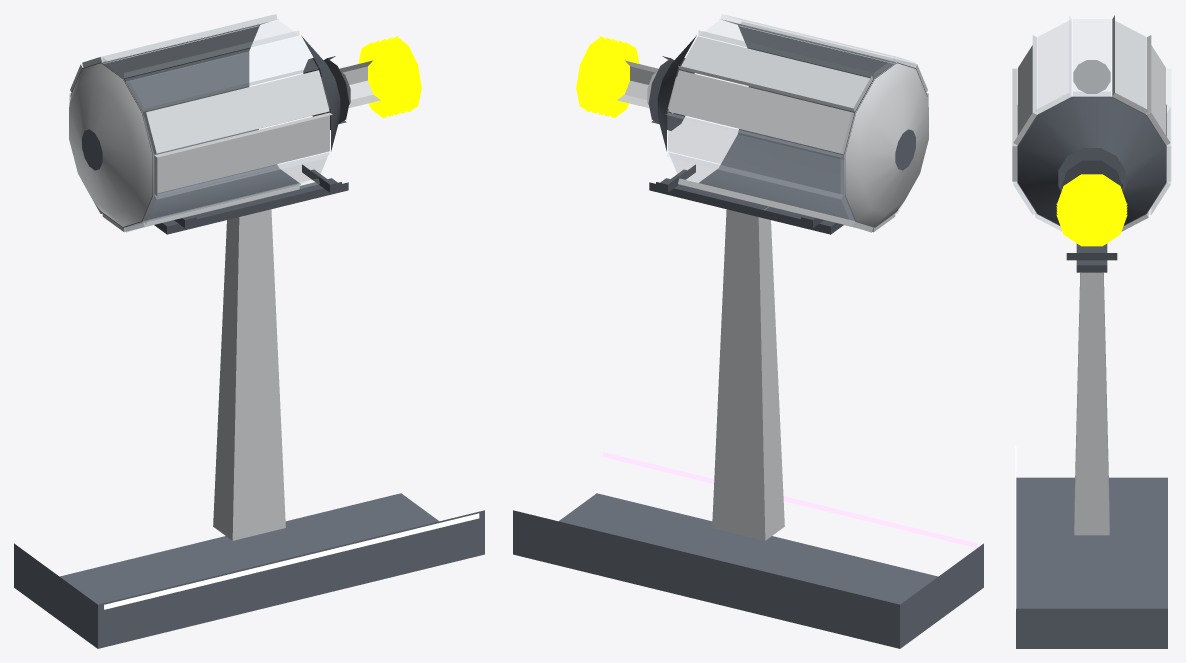
File: ext_memorial_aegis_01.glb
3 views of the same model, side by side, from view 1: azimuth 30°, elevation 25°; view 2: azimuth 150°, elevation 25°; view 3: azimuth 270°, elevation 25° (orthographic). The views are drawn at different scales.
Visible parts, largest first — view 1: Plinth, Stele, Drum_Hull_Strips, Drum_Solarium_Glass, Drum_Core, Fwd_Endcap_Dome, Fusion_Coils, Yoke, Plinth_Seam, Aft_Baffle_Bulkhead, Starport_Spine; view 2: Plinth, Stele, Drum_Hull_Strips, Drum_Solarium_Glass, Drum_Core, Fwd_Endcap_Dome, Fusion_Coils, Yoke, Plinth_Seam, Aft_Baffle_Bulkhead, Starport_Spine; view 3: Plinth, Aft_Baffle_Bulkhead, Stele, Drum_Solarium_Glass, Drum_Hull_Strips, Fusion_Coils, Drum_Core, Fwd_Endcap_Dome, Yoke, Docking_Collar, Plinth_Seam.
Part boxes in pixels (x1,y1,x2,y2): Plinth: [14, 493, 484, 648]; Stele: [213, 207, 285, 540]; Drum_Hull_Strips: [70, 14, 332, 232]; Drum_Solarium_Glass: [69, 20, 331, 232]; Drum_Core: [70, 22, 300, 227]; Fwd_Endcap_Dome: [69, 62, 153, 226]; Fusion_Coils: [358, 35, 421, 117]; Yoke: [154, 164, 348, 234]; Plinth_Seam: [104, 513, 479, 609]; Aft_Baffle_Bulkhead: [301, 35, 340, 151]; Starport_Spine: [321, 60, 380, 113]; Plinth: [513, 493, 983, 648]; Stele: [712, 207, 784, 540]; Drum_Hull_Strips: [667, 21, 928, 232]; Drum_Solarium_Glass: [666, 14, 915, 223]; Drum_Core: [699, 19, 927, 227]; Fwd_Endcap_Dome: [844, 62, 928, 226]; Fusion_Coils: [576, 35, 639, 117]; Yoke: [649, 164, 843, 234]; Plinth_Seam: [602, 452, 978, 547]; Aft_Baffle_Bulkhead: [657, 35, 696, 151]; Starport_Spine: [617, 60, 676, 113]; Plinth: [1016, 477, 1167, 648]; Aft_Baffle_Bulkhead: [1018, 96, 1165, 225]; Stele: [1074, 272, 1109, 535]; Drum_Solarium_Glass: [1013, 16, 1171, 231]; Drum_Hull_Strips: [1012, 15, 1170, 231]; Fusion_Coils: [1056, 174, 1127, 246]; Drum_Core: [1017, 97, 1166, 225]; Fwd_Endcap_Dome: [1073, 60, 1110, 93]; Yoke: [1066, 243, 1117, 272]; Docking_Collar: [1061, 160, 1122, 189]; Plinth_Seam: [1015, 446, 1016, 611].
Size of the model in its own units: 3.2 by 4.26 by 1.26.
